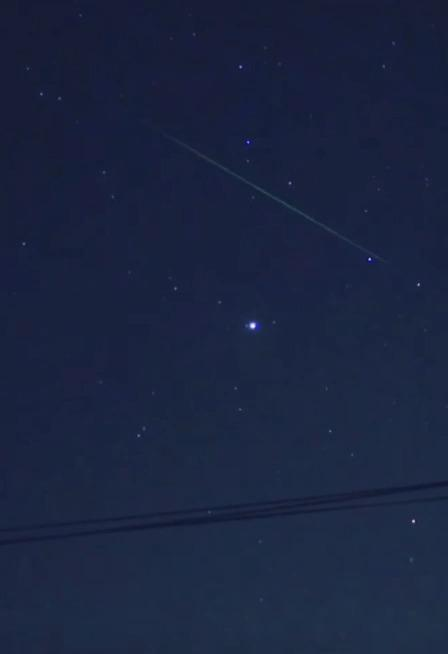meteorite: (137, 120, 321, 236)
